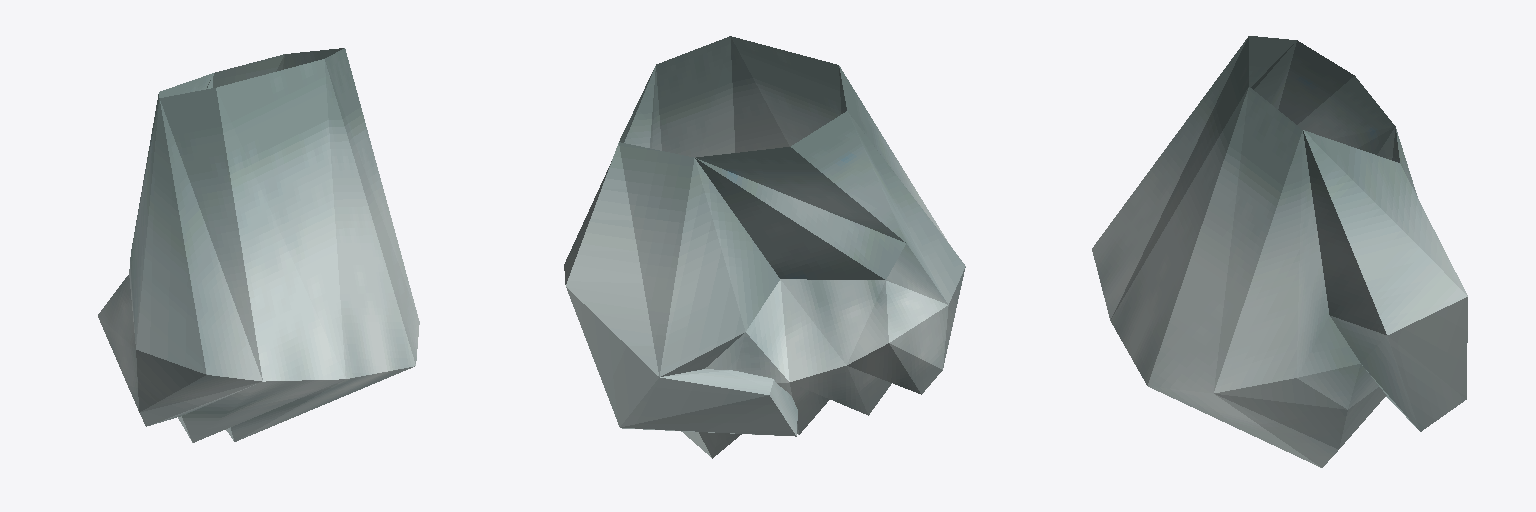
3 renders of one model, left to right at view 1: azimuth 30°, elevation 25°; view 2: azimuth 150°, elevation 25°; view 3: azimuth 270°, elevation 25°, orthographic.
Parts seen in each view (by area): view 1: Pierna_izquierda021; view 2: Pierna_izquierda021; view 3: Pierna_izquierda021.
Boxes of the visible parts, x1,y1,x2,y2 form: Pierna_izquierda021: [98, 48, 419, 442]; Pierna_izquierda021: [564, 36, 965, 458]; Pierna_izquierda021: [1092, 36, 1467, 467].
Bounding box in the file's own units: 0.9674 × 1.2 × 1.05.
Materials: 1 (1 with a texture image).